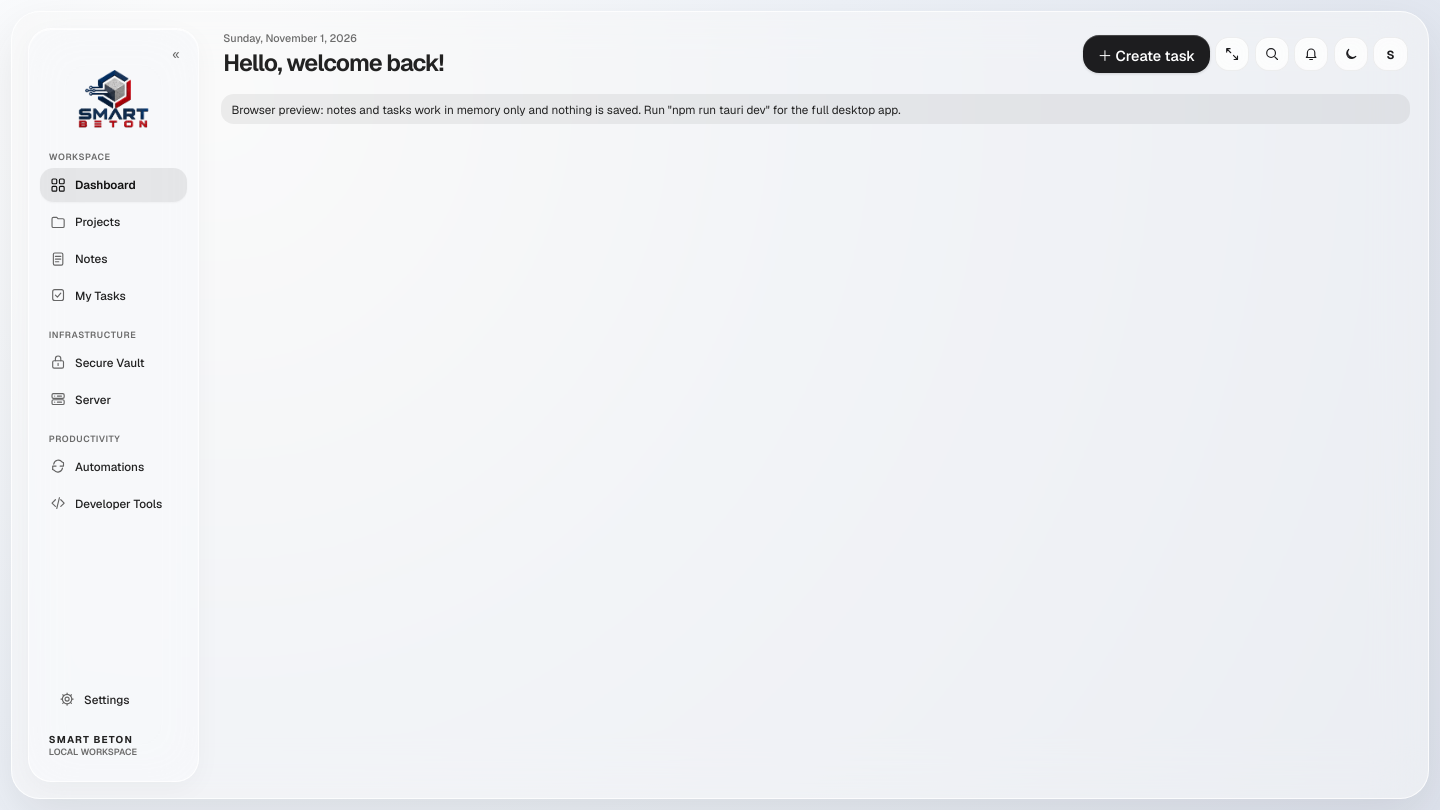
task list filters by completion status
The width and height of the screenshot is (1440, 810).
What coordinates should you click on to do the following:
click the button "My Tasks"
I would click on:
 (114, 296)
Its box is [40,278,187,313].
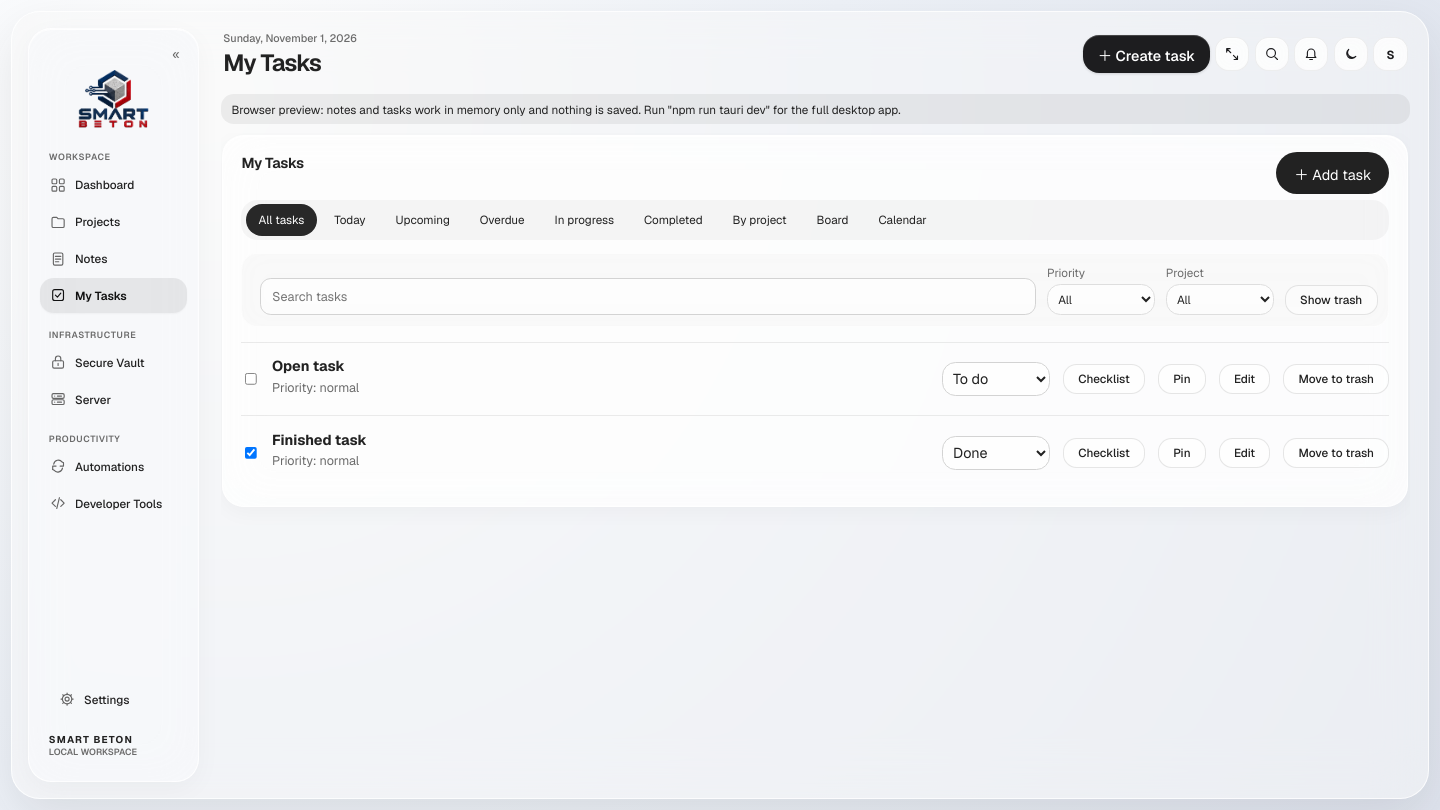
Check: the text "Open task" is shown, box [272,357,345,375]
What coordinates should you click on to do the following:
click the tab "Completed"
I would click on:
 (673, 220)
Its box is [631,204,715,236].
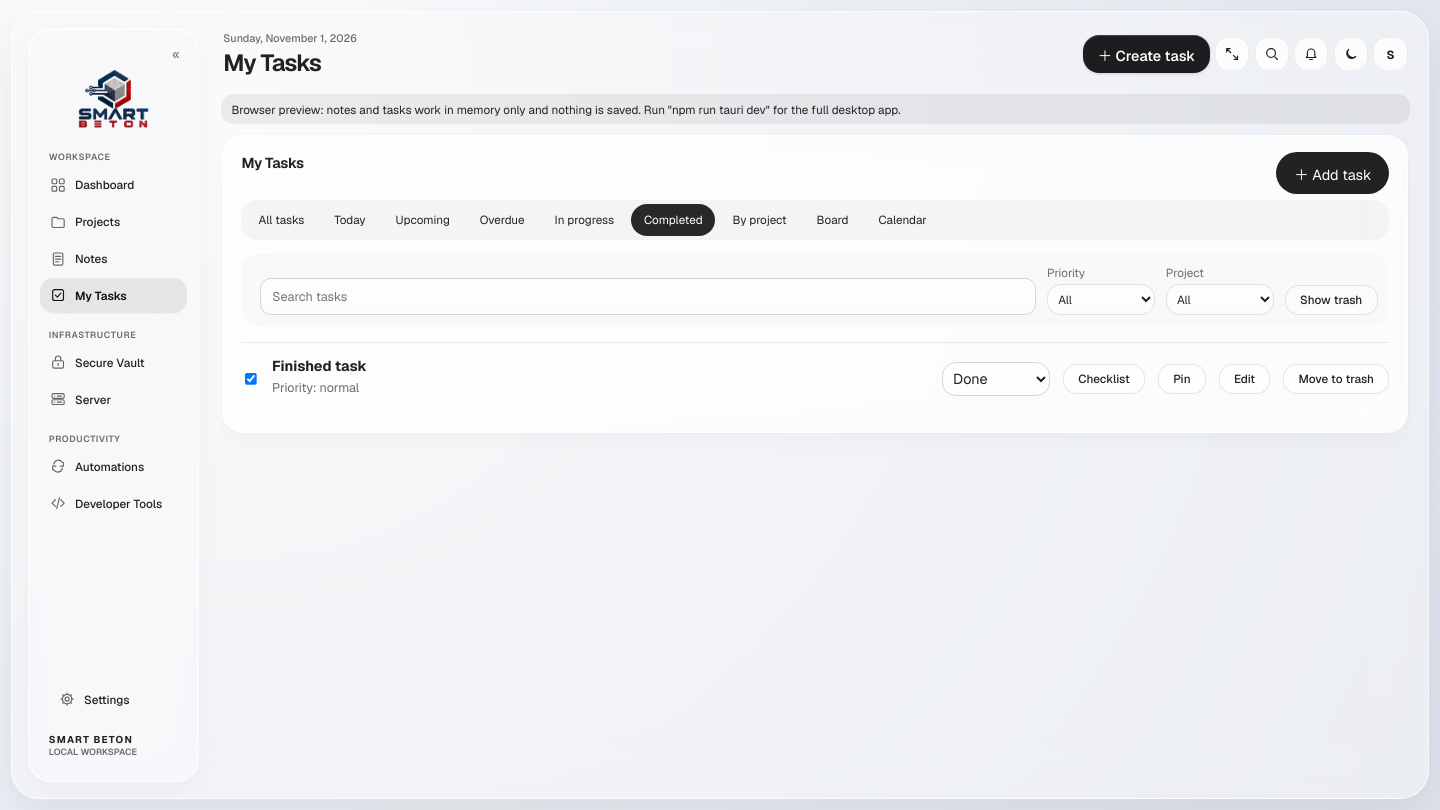
Check: the text "Finished task" is shown, box [272,357,367,375]
Check: the text "Open task" is gone
